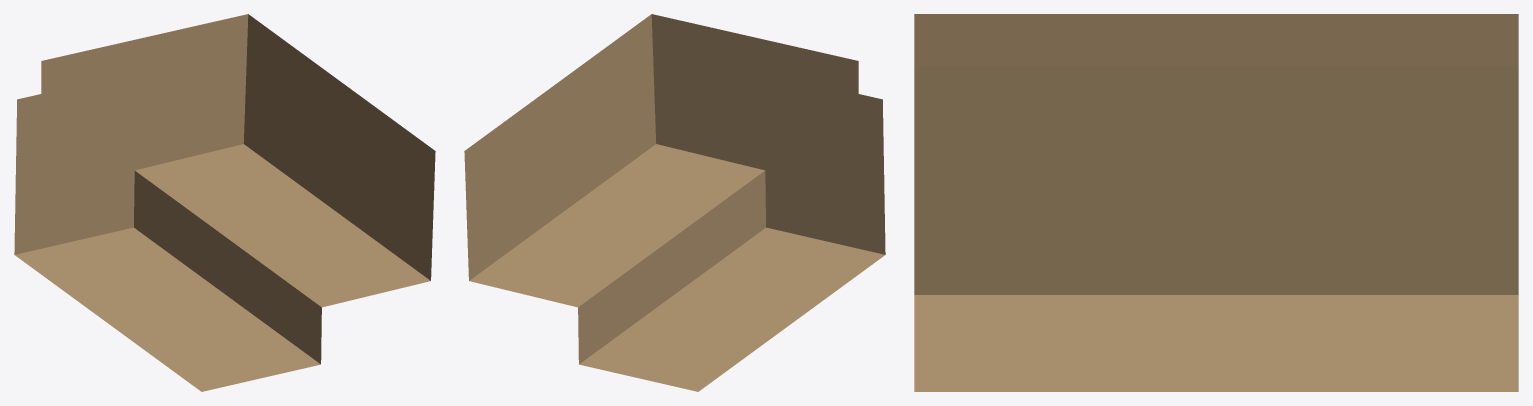
3 renders of one model, left to right at view 1: azimuth 30°, elevation 25°; view 2: azimuth 150°, elevation 25°; view 3: azimuth 270°, elevation 25°, orthographic. The views are drawn at different scales.
Parts seen in each view (by area): view 1: 0_0_2_0_1_1_0_2_1; view 2: 0_0_2_0_1_1_0_2_1; view 3: 0_0_2_0_1_1_0_2_1.
Part boxes in pixels (box(x1,y1,x2,y2)): 0_0_2_0_1_1_0_2_1: box(14, 14, 435, 391); 0_0_2_0_1_1_0_2_1: box(464, 14, 885, 391); 0_0_2_0_1_1_0_2_1: box(914, 14, 1518, 391).
Size of the model in its own units: 17.31 by 13.37 by 24.
